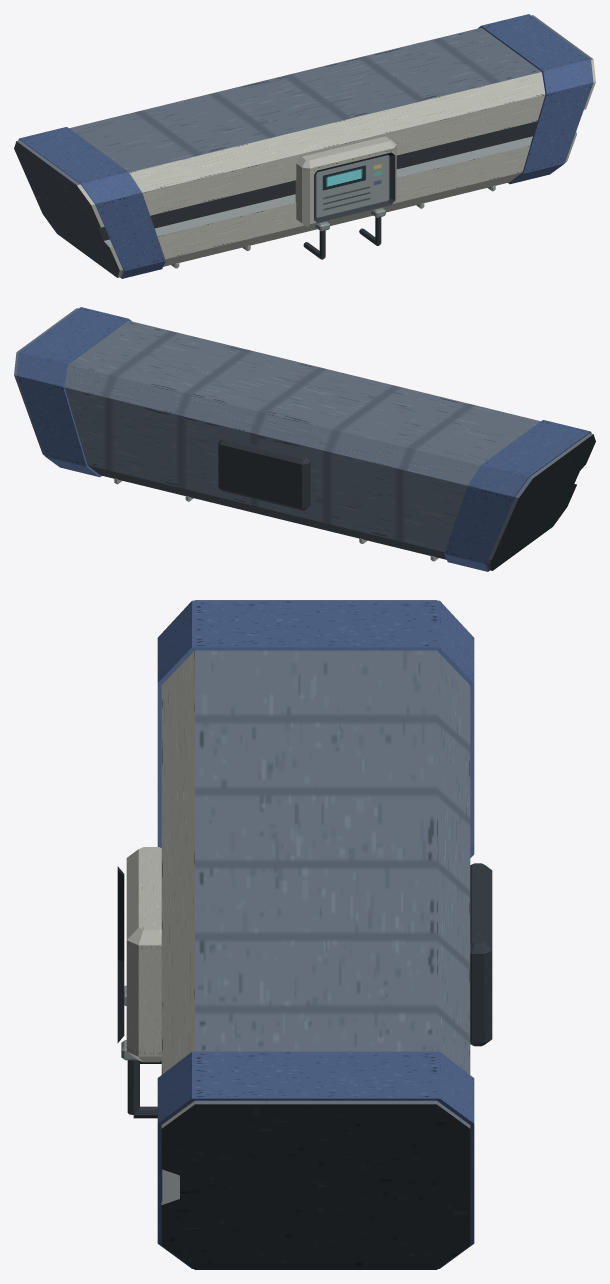
Rendered from RingSegment.fbx.
3 renders of one model, top to bottom at view 1: azimuth 30°, elevation 25°; view 2: azimuth 150°, elevation 25°; view 3: azimuth 270°, elevation 25°, orthographic. The views are drawn at different scales.
Parts seen in each view (by area): view 1: RingSegment; view 2: RingSegment; view 3: RingSegment.
Part boxes in pixels (<box>): RingSegment: <box>14,14,595,278</box>; RingSegment: <box>14,307,595,571</box>; RingSegment: <box>117,600,492,1269</box>.
Size of the model in its own units: 2319 by 518 by 728.
